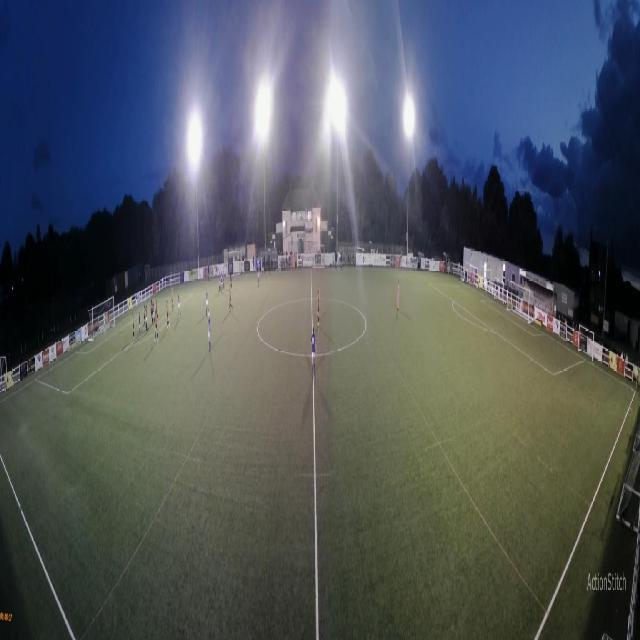ball: (234, 283, 235, 287)
player: (311, 327, 318, 379), (208, 311, 212, 352), (316, 288, 320, 326), (154, 312, 159, 342), (396, 280, 400, 311), (166, 300, 170, 330), (229, 284, 233, 313), (177, 290, 181, 319), (152, 299, 156, 325), (155, 299, 159, 321), (206, 288, 209, 316), (138, 311, 141, 339), (143, 305, 146, 332), (150, 299, 153, 325), (171, 287, 174, 311), (258, 264, 261, 286), (103, 312, 106, 334), (218, 272, 221, 293), (133, 312, 135, 340), (145, 305, 147, 332), (221, 271, 223, 293), (230, 268, 232, 289), (223, 270, 225, 290)
